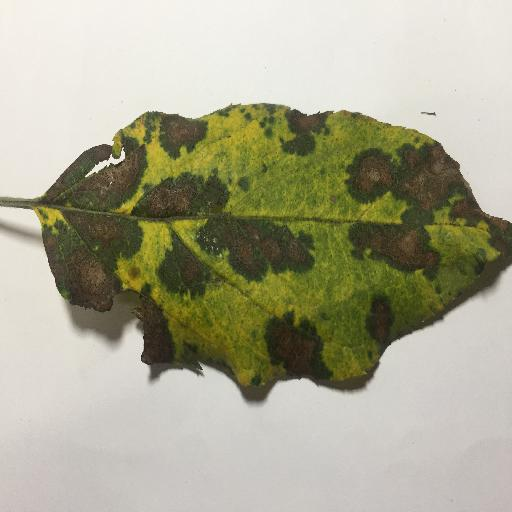Brown_Spot: (350, 142, 500, 228), (38, 212, 145, 309), (348, 222, 445, 285), (193, 220, 315, 269), (50, 151, 145, 208), (268, 314, 341, 378), (157, 241, 216, 294), (144, 176, 215, 216), (135, 295, 179, 359), (155, 112, 202, 157), (285, 106, 331, 141), (359, 292, 388, 336)
